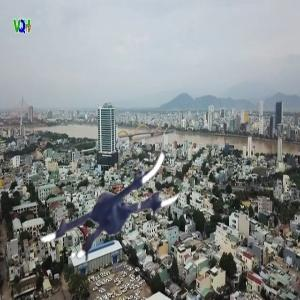drone: (33, 124, 183, 274)
